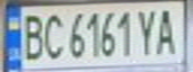1: (81, 8, 103, 59), (115, 7, 136, 57)
6: (63, 8, 87, 60), (100, 8, 118, 57)
A: (154, 4, 181, 56)
B: (18, 10, 45, 62)
C: (39, 9, 66, 61)
Y: (136, 6, 160, 56)
